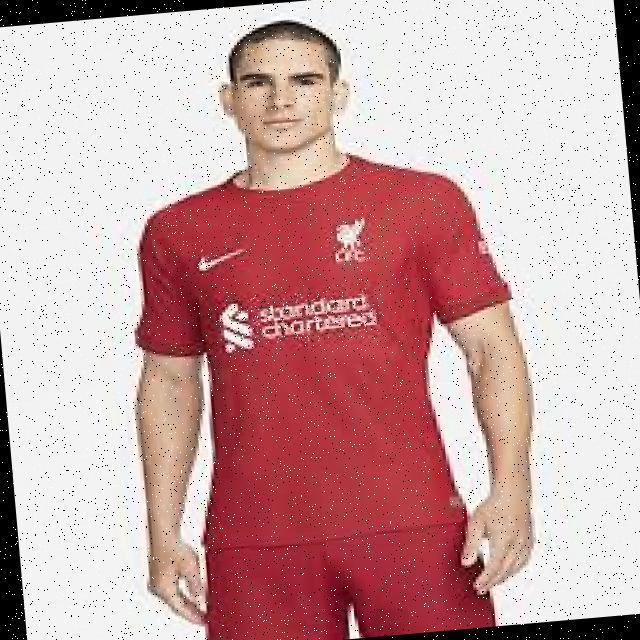Nike: (196, 245, 243, 271)
Standard Chartered: (216, 286, 378, 350)
